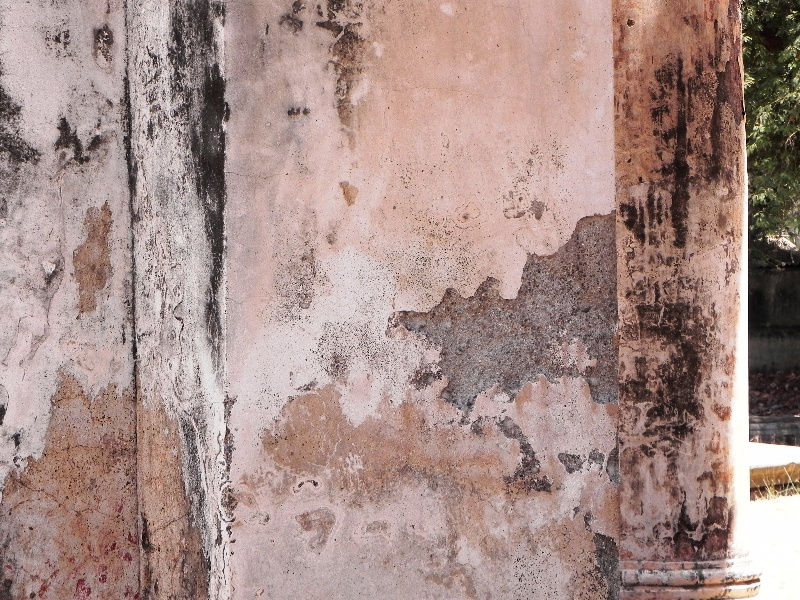Spalling: (378, 209, 630, 428)
